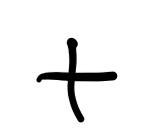plus: (36, 38, 118, 123)
